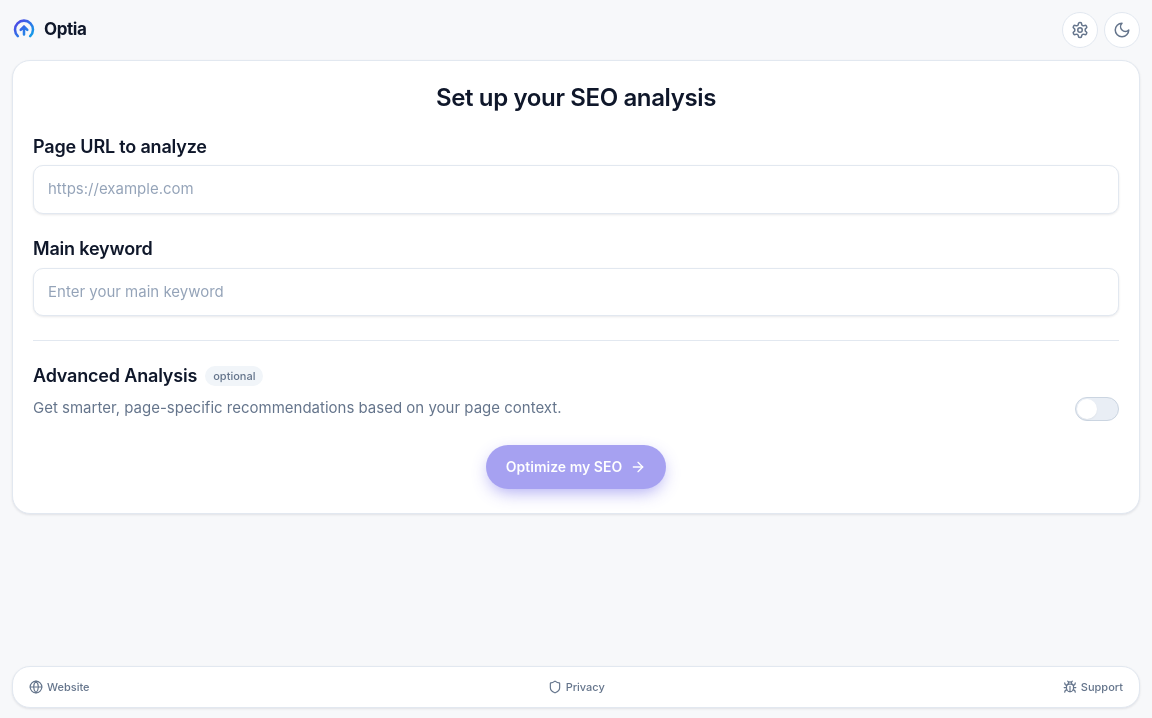
it: SetupPage › shows a 'using your key' line in the settings panel when BYOK is active
The width and height of the screenshot is (1152, 718).
What coordinates should you click on to do the following:
click the button named "settings"
I would click on:
 (1080, 30)
Its box is [1062,12,1098,48].
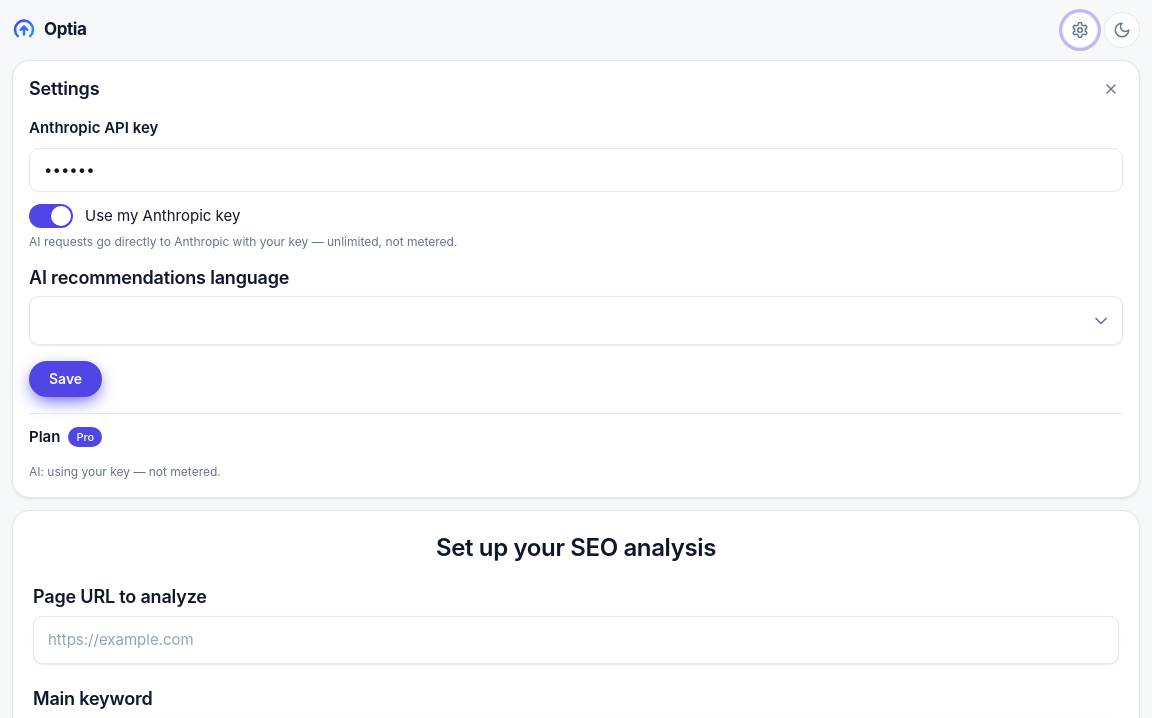
expect the text "AI: using your key — not metered." is shown: met, box [29,464,221,479]
